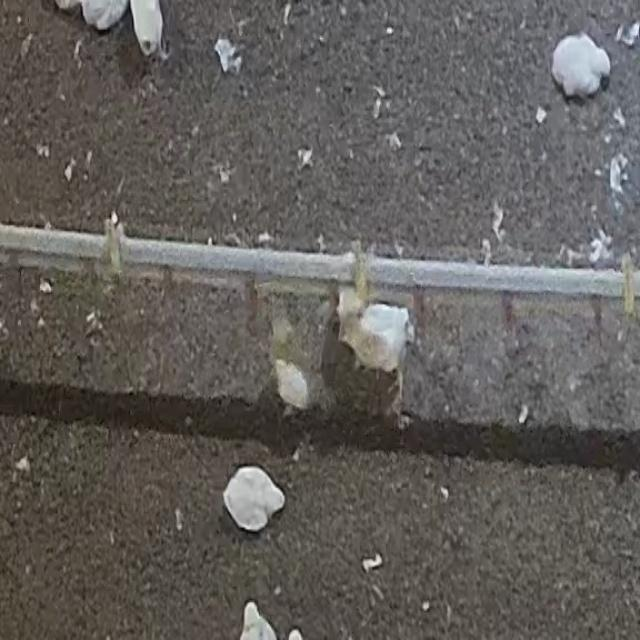chicken: (329, 288, 413, 374), (551, 24, 617, 105), (116, 0, 182, 74), (220, 457, 282, 535), (229, 588, 315, 640), (260, 350, 311, 412), (60, 0, 130, 40)
